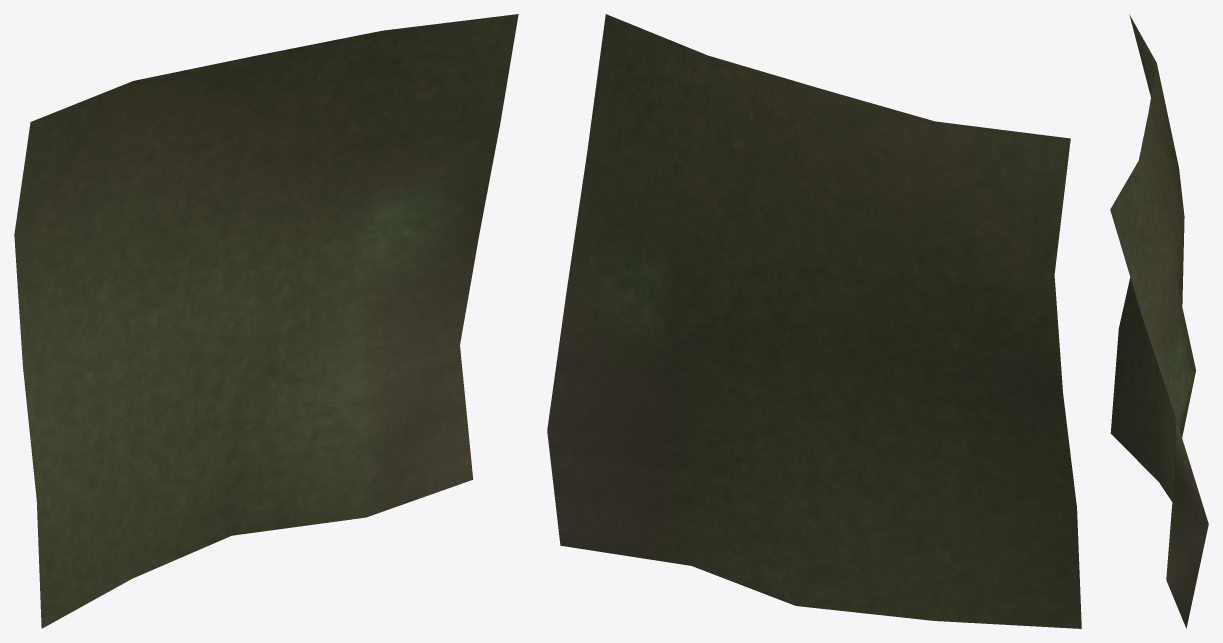
Rendered from terrain_far_01_03.obj.
3 views of the same model, side by side, from view 1: azimuth 30°, elevation 25°; view 2: azimuth 150°, elevation 25°; view 3: azimuth 270°, elevation 25° (orthographic). The views are drawn at different scales.
Parts seen in each view (by area): view 1: terrain_far_01_03; view 2: terrain_far_01_03; view 3: terrain_far_01_03.
Part boxes in pixels (x1,y1,x2,y2): terrain_far_01_03: (14, 14, 518, 628); terrain_far_01_03: (547, 14, 1081, 628); terrain_far_01_03: (1110, 14, 1208, 628).
Bounding box in the file's own units: 288 × 288 × 61.38.
Materials: 1 (1 with a texture image).
